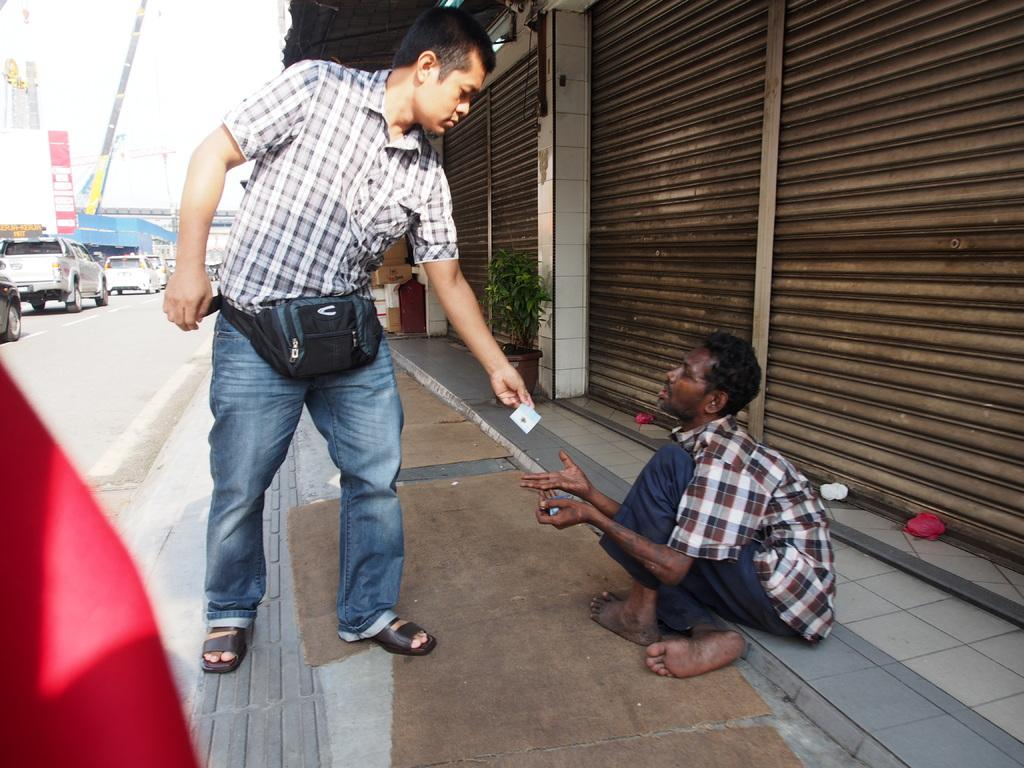Luggage-and-bags: (210, 292, 378, 377)
